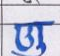u_matra: (14, 40, 49, 55)
